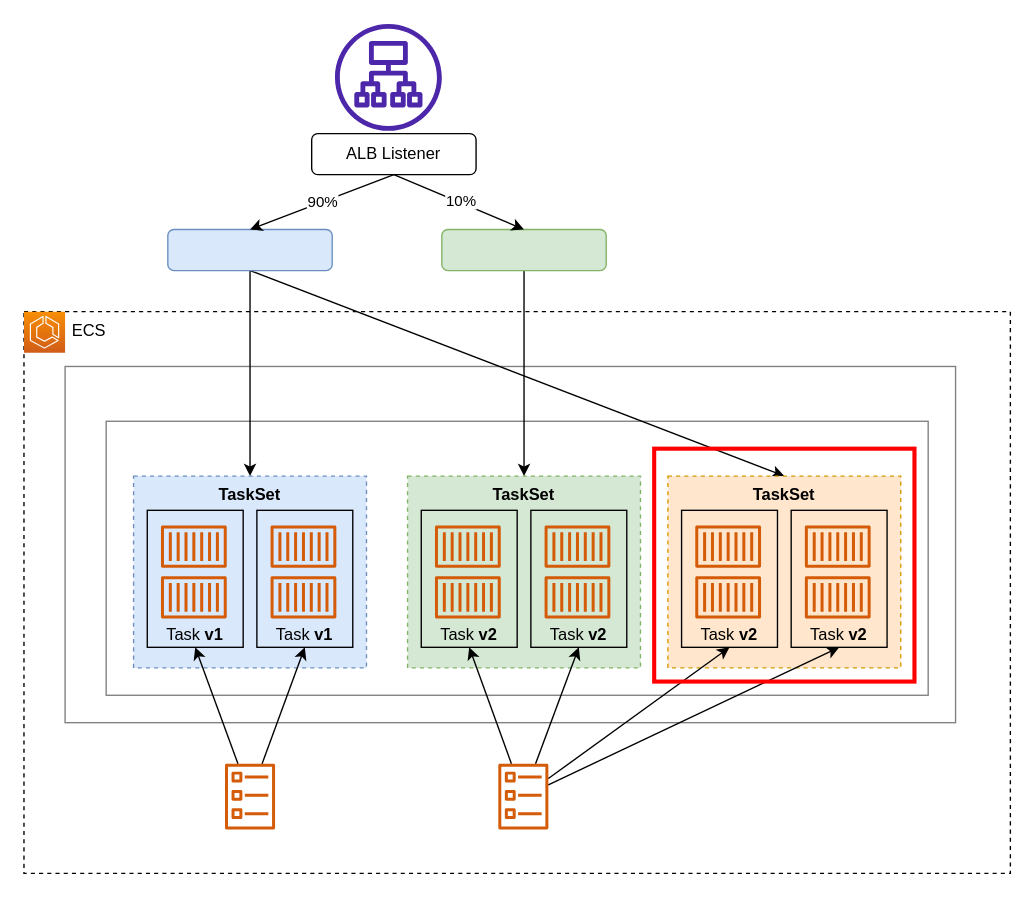
This 1034x897 diagram has some shape labels left out. The box of each missing label's shape, as (x1, y1, x2, y2) in pixels:
Cluster: (64, 365, 956, 723)
Service: (105, 420, 928, 695)
TargetGroup A: (166, 228, 332, 271)
TargetGroup B: (440, 228, 606, 271)
TaskDefinition v1: (224, 763, 275, 829)
TaskDefinition v2: (497, 763, 548, 829)
